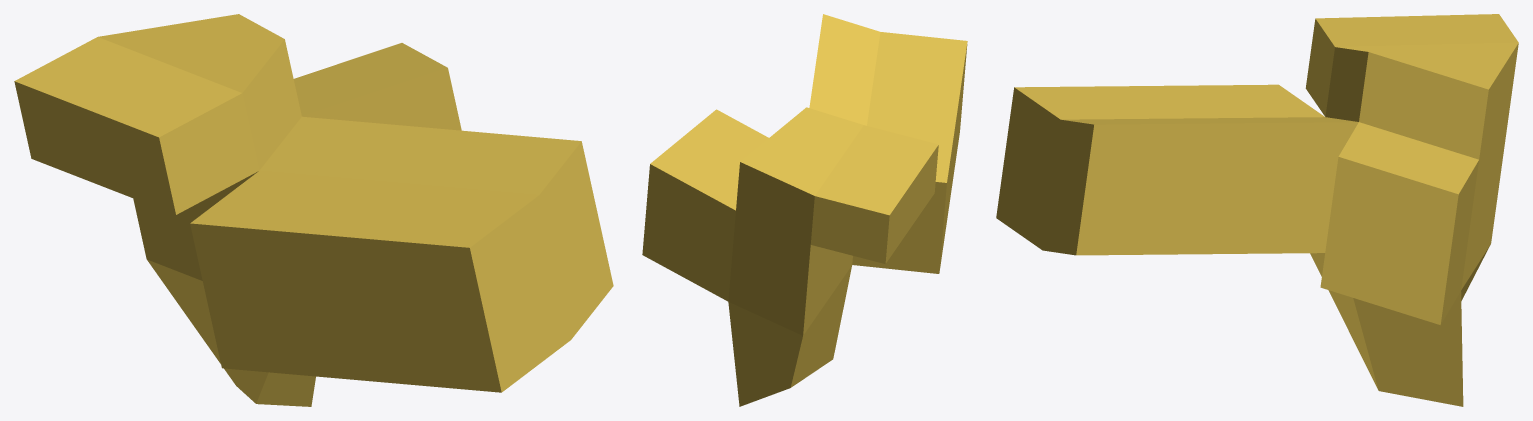
The model's file is Good.glb.
3 views of the same model, side by side, from view 1: azimuth 30°, elevation 25°; view 2: azimuth 150°, elevation 25°; view 3: azimuth 270°, elevation 25° (orthographic). The views are drawn at different scales.
Visible parts, largest first — view 1: 立方体; view 2: 立方体; view 3: 立方体.
Boxes of the visible parts, x1,y1,x2,y2 form: 立方体: (14,14,613,406); 立方体: (642,14,967,406); 立方体: (996,14,1518,406).
Size of the model in its own units: 7.52 by 7.37 by 10.32.
